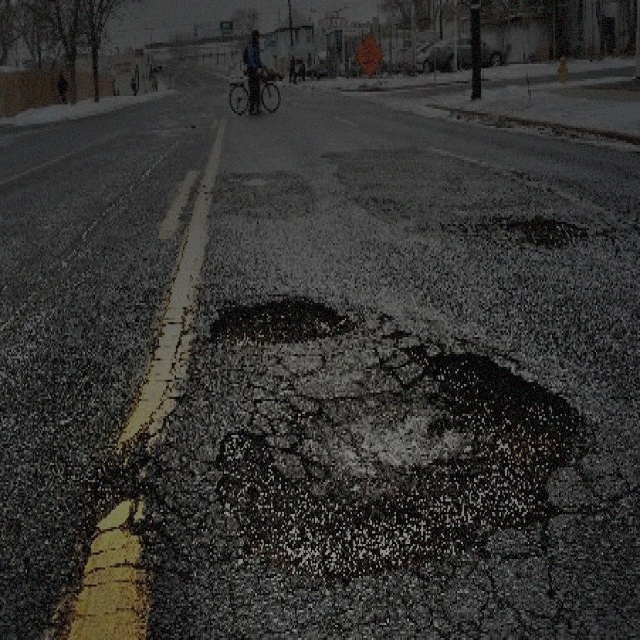pothole: (210, 337, 590, 582), (203, 292, 356, 346), (483, 211, 586, 250)
